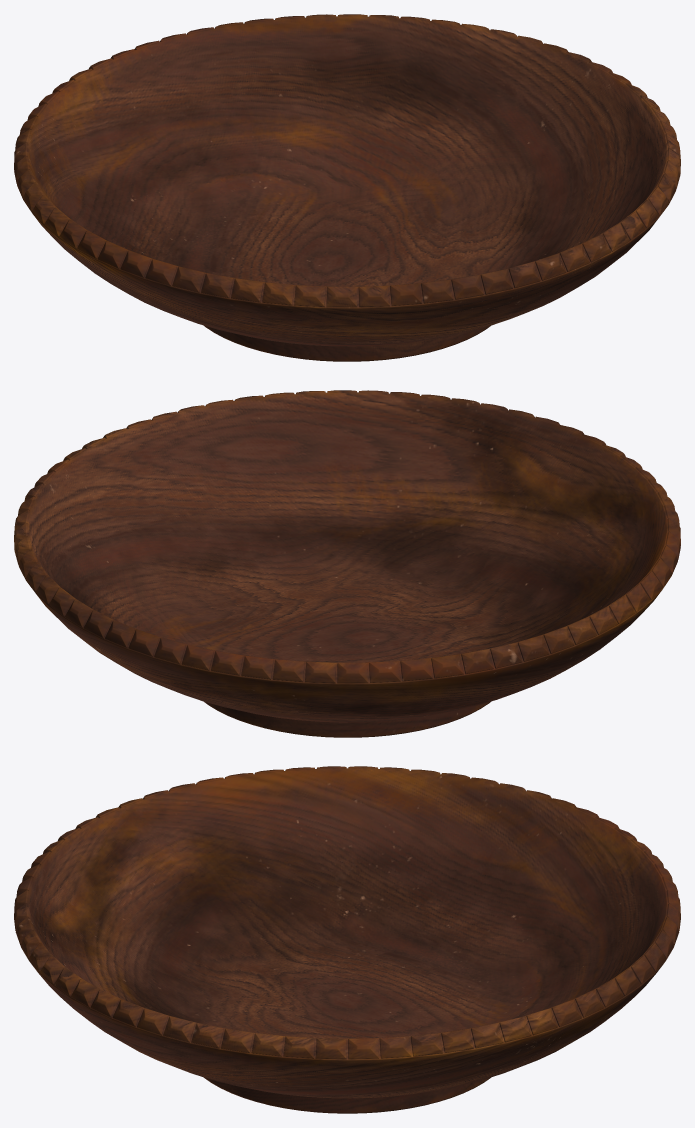
The model's file is SM_Plate350.fbx.
3 renders of one model, top to bottom at view 1: azimuth 30°, elevation 25°; view 2: azimuth 150°, elevation 25°; view 3: azimuth 270°, elevation 25°, orthographic.
Parts seen in each view (by area): view 1: SM_Plate350; view 2: SM_Plate350; view 3: SM_Plate350.
Part boxes in pixels (box(x1,y1,x2,y2)): SM_Plate350: box(14, 14, 680, 361); SM_Plate350: box(14, 390, 680, 737); SM_Plate350: box(14, 766, 680, 1113).
Bounding box in the file's own units: 27.86 × 6.54 × 27.86.
1 material, 1 textured.
